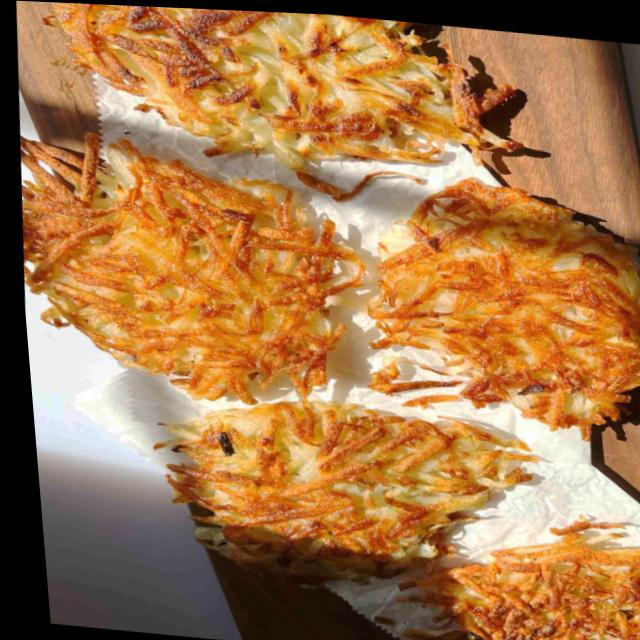Hashbrown: (12, 134, 381, 415), (155, 393, 550, 611), (53, 2, 475, 179), (362, 175, 640, 439), (413, 524, 640, 640)
